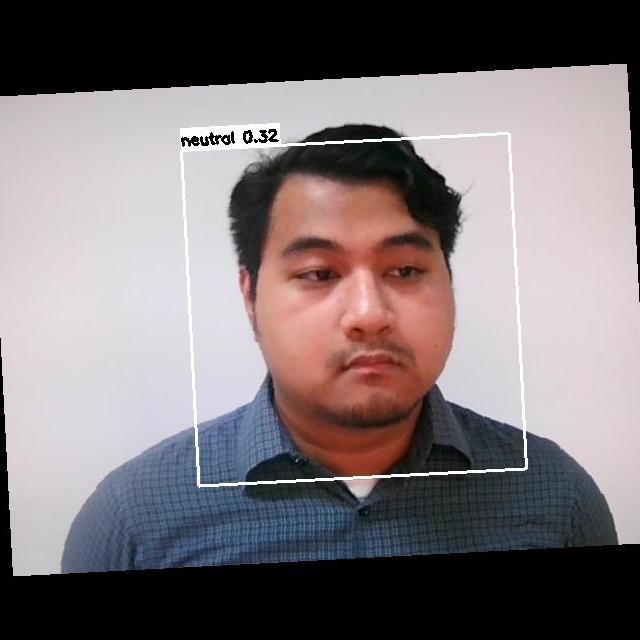Natural: (271, 237, 451, 403)
